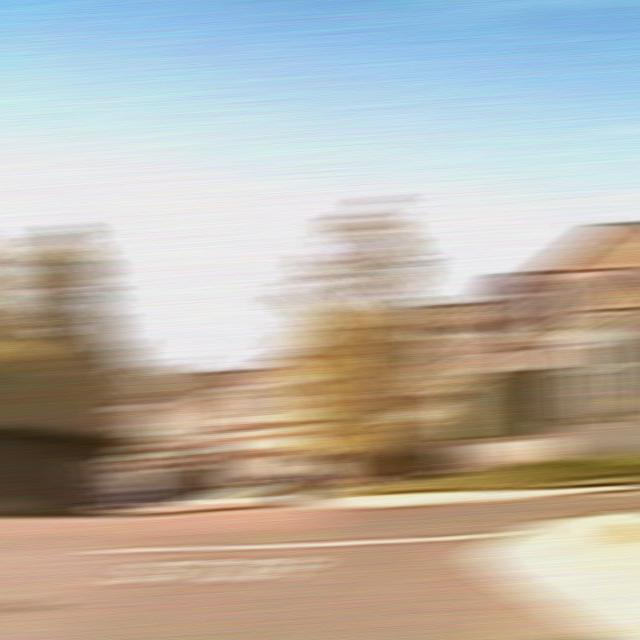stop: (484, 270, 556, 337)
